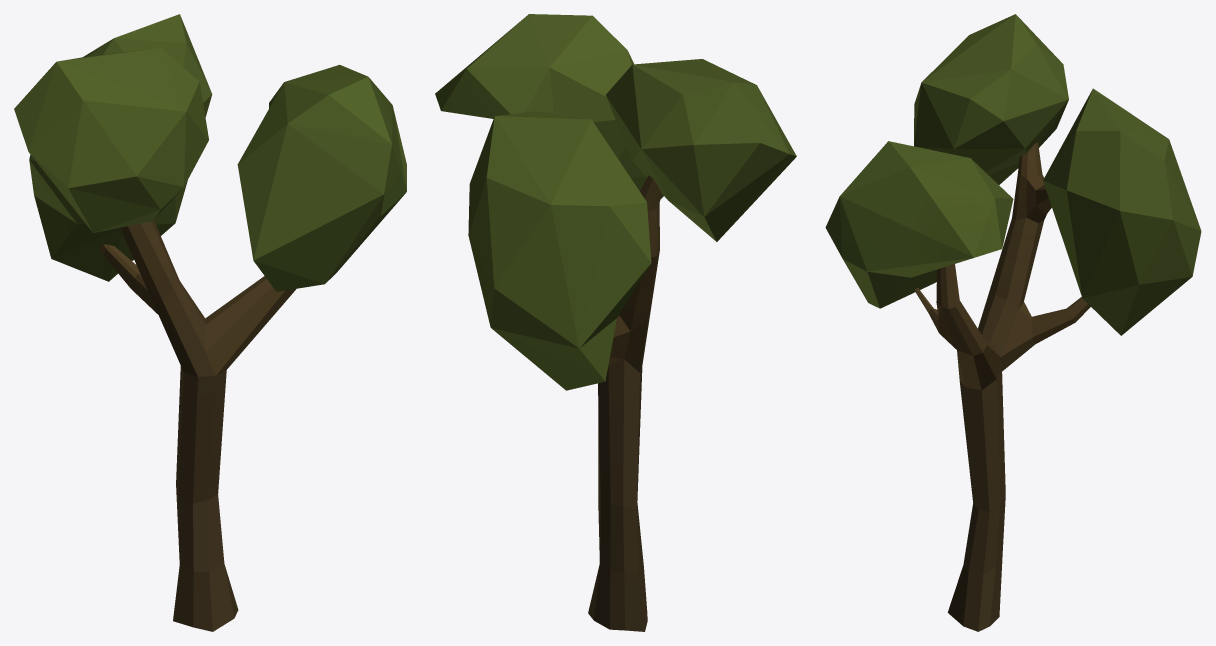
Rendered from Tree2.fbx.
3 renders of one model, left to right at view 1: azimuth 30°, elevation 25°; view 2: azimuth 150°, elevation 25°; view 3: azimuth 270°, elevation 25°, orthographic. The views are drawn at different scales.
Visible parts, largest first — view 1: Tree2; view 2: Tree2; view 3: Tree2.
Part boxes in pixels (left/top/right/bottom): Tree2: left=14, top=14, right=406, bottom=631; Tree2: left=435, top=14, right=796, bottom=631; Tree2: left=825, top=14, right=1201, bottom=631.
Bounding box in the file's own units: 300 × 462 × 290.
